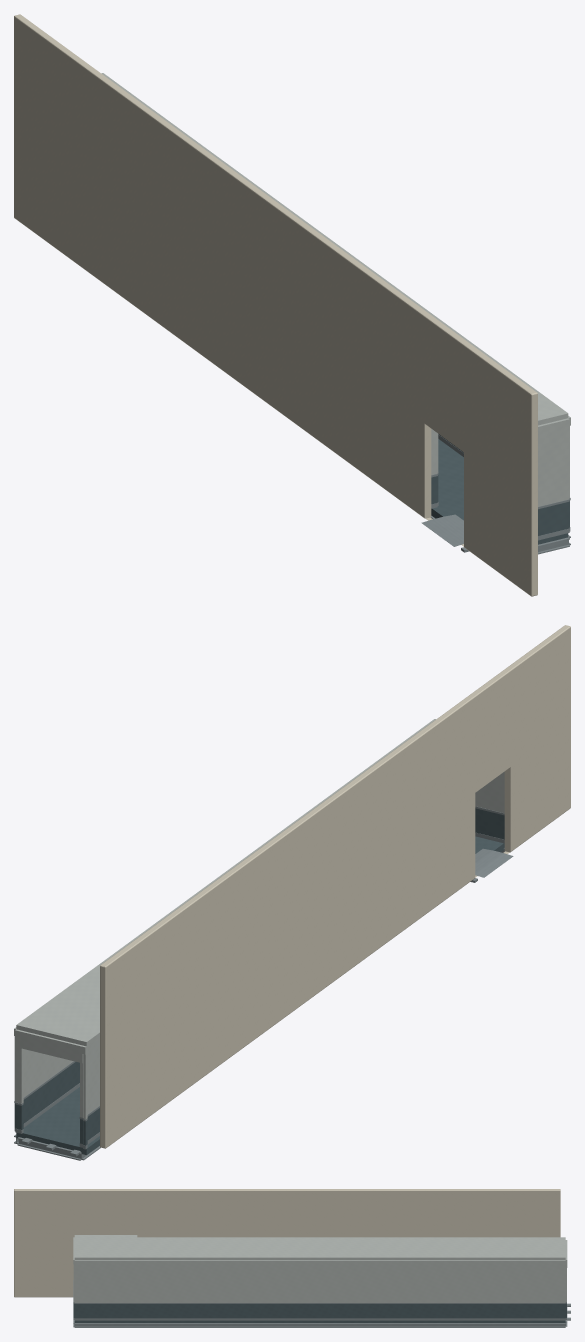
The model's file is CULTURAL_SERVICE_RECEIVER_r001.glb.
3 renders of one model, top to bottom at view 1: azimuth 30°, elevation 25°; view 2: azimuth 150°, elevation 25°; view 3: azimuth 270°, elevation 25°, orthographic. The views are drawn at different scales.
Visible parts, largest first — view 1: CCR_SUCCESSOR_E_outer_east1, CCR_BATCH_002, CCR_BATCH_000, CCR_BATCH_003; view 2: CCR_SUCCESSOR_E_outer_east1, CCR_BATCH_002, CCR_BATCH_000, CCR_BATCH_003; view 3: CCR_BATCH_002, CCR_SUCCESSOR_E_outer_east1, CCR_BATCH_000, CCR_BATCH_003.
Part boxes in pixels (x1,y1,x2,y2): CCR_SUCCESSOR_E_outer_east1: (14, 14, 537, 596); CCR_BATCH_002: (101, 73, 570, 506); CCR_BATCH_000: (431, 434, 569, 544); CCR_BATCH_003: (421, 434, 570, 554); CCR_SUCCESSOR_E_outer_east1: (100, 625, 570, 1148); CCR_BATCH_002: (14, 719, 504, 1119); CCR_BATCH_000: (14, 808, 504, 1154); CCR_BATCH_003: (14, 806, 513, 1160); CCR_BATCH_002: (73, 1235, 567, 1302); CCR_SUCCESSOR_E_outer_east1: (14, 1189, 560, 1297); CCR_BATCH_000: (73, 1303, 566, 1322); CCR_BATCH_003: (73, 1280, 570, 1327).
Bounding box in the file's own units: 3.64 × 7.26 × 32.1.
7 materials, 6 textured.
